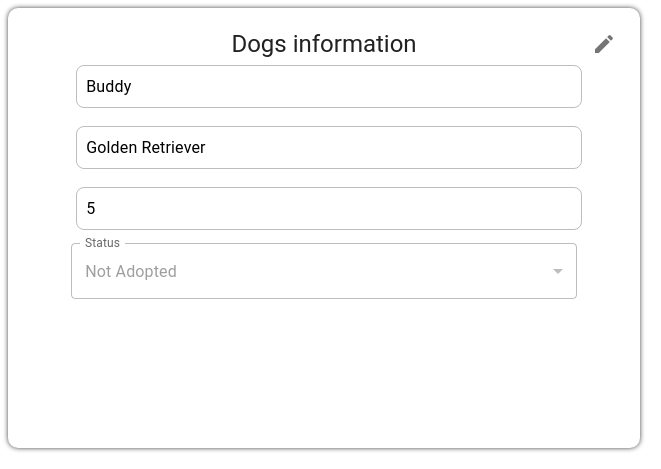
DogInfo.cy.tsx › Form Validation
Click the button with id "editDogInfo": coordinates (604, 44) 584,24 -> 624,64
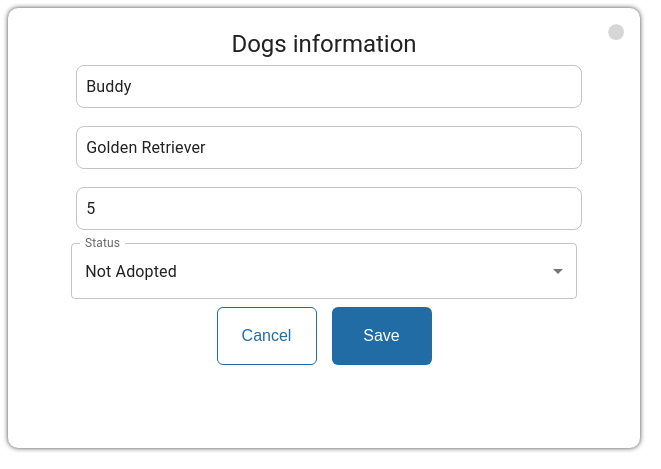
Clear the field with id "DogName": coordinates (329, 87) 81,65 -> 577,108
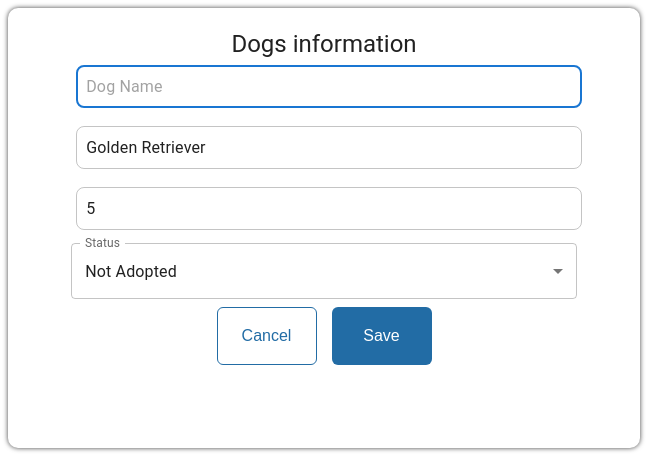
Clear the field with id "Breed": coordinates (329, 148) 81,126 -> 577,169
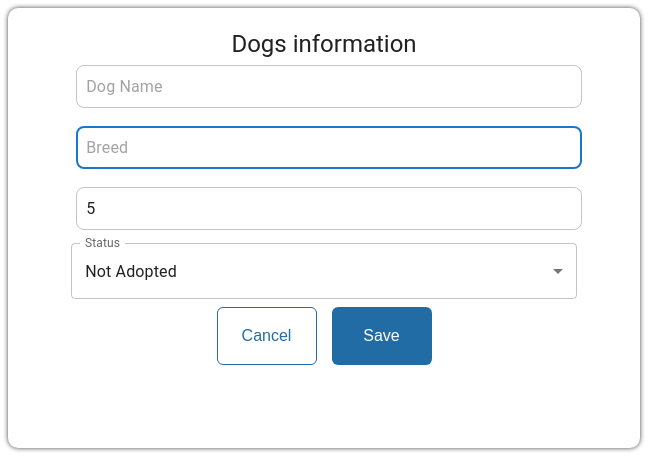
Clear the field with id "Age": coordinates (329, 209) 81,187 -> 577,230
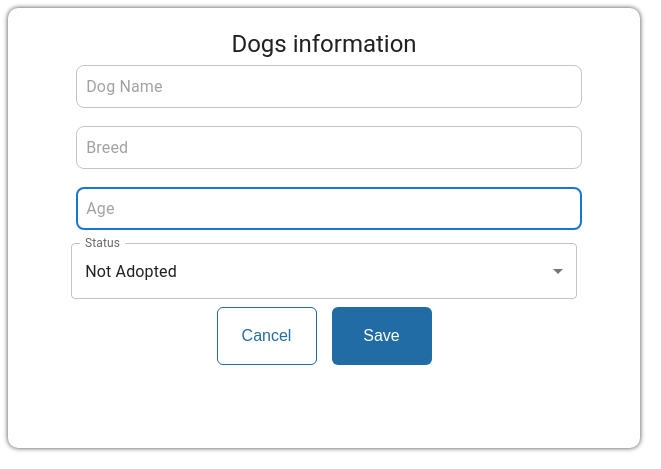
Click the button "Save": coordinates (382, 336) 332,307 -> 432,365
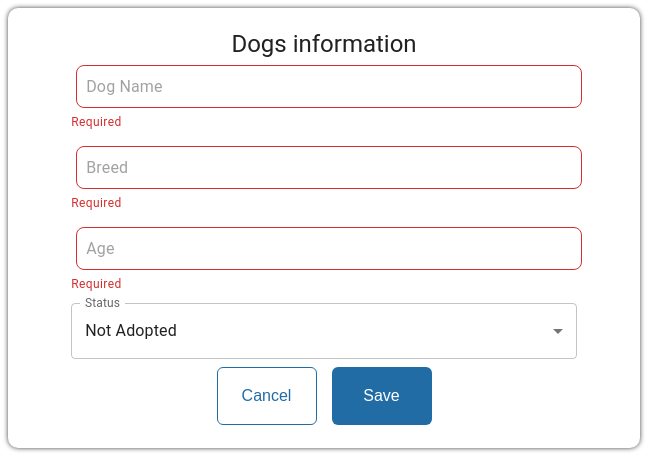
expect the text with id "DogName-helper-text" reads "Required": met, box 71,115 -> 121,129
expect the text with id "Breed-helper-text" reads "Required": met, box 71,196 -> 121,210
expect the text with id "Age-helper-text" reads "Required": met, box 71,277 -> 121,291
